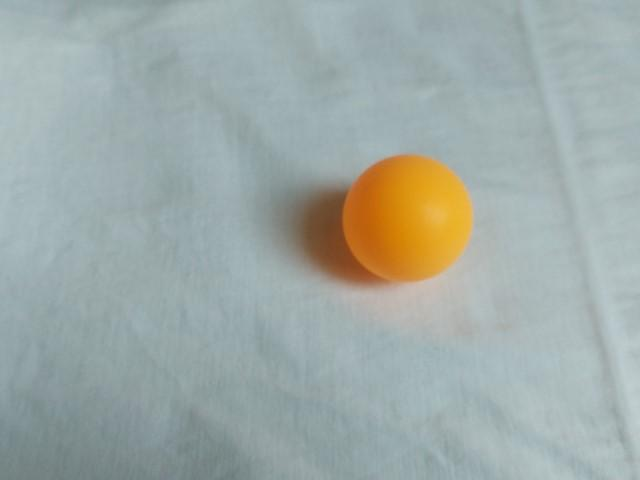oball: (327, 146, 483, 292)
